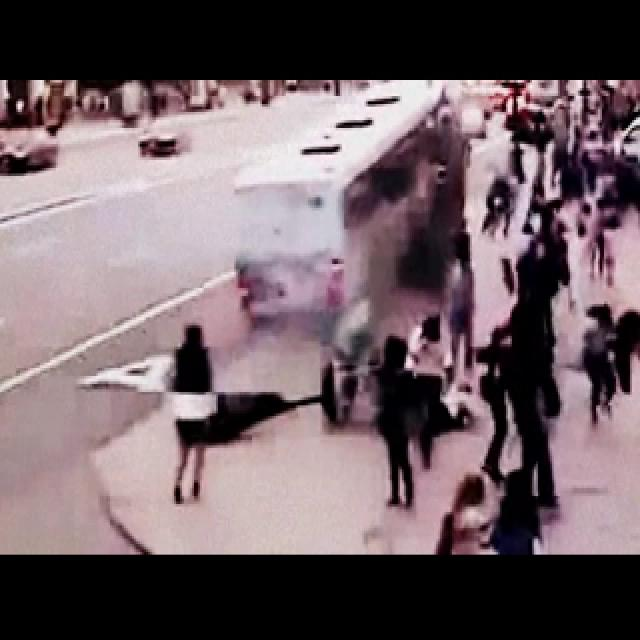road accidents: (242, 102, 522, 454)
